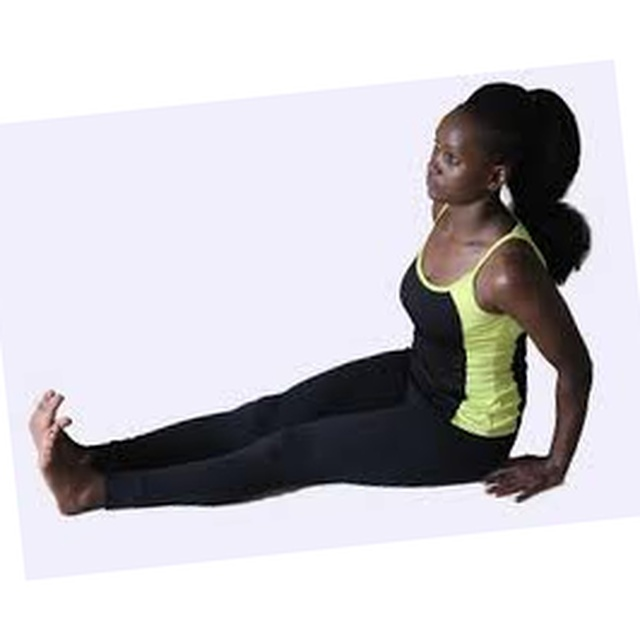Staff_Pose: (29, 81, 596, 517)
